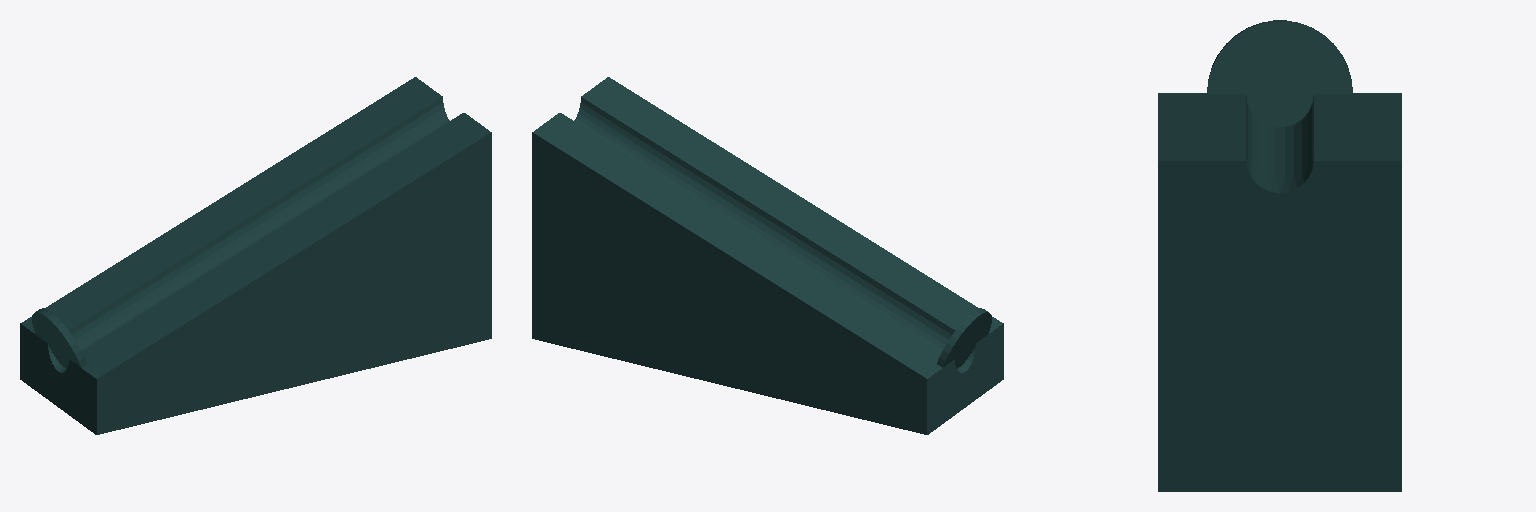
URDF robot description (20deg_launcher):
<?xml version="1.0" ?>
<!-- =================================================================================== -->
<!-- |    This document was autogenerated by xacro from src/exocet_20deg_launcher/urdf/20deg_launcher.xacro | -->
<!-- |    EDITING THIS FILE BY HAND IS NOT RECOMMENDED                                 | -->
<!-- =================================================================================== -->
<robot name="20deg_launcher">
  <material name="grey">
    <color rgba="0.2 0.2 0.2 1.0"/>
  </material>
  <material name="darkgrey">
    <color rgba="0.18359375 0.30859375 0.30859375 1.000"/>
  </material>
  <material name="silver">
    <color rgba="0.700 0.700 0.700 1.000"/>
  </material>
  <material name="white">
    <color rgba="1 1 1 1"/>
  </material>
  <material name="orange">
    <color rgba="1 0.3 0.1 1"/>
  </material>
  <material name="blue">
    <color rgba="0.2 0.2 1 1"/>
  </material>
  <material name="red">
    <color rgba="0.8 0 0 1"/>
  </material>
  <material name="green">
    <color rgba="0.0 1 0.0 1"/>
  </material>
  <material name="black">
    <color rgba="0 0 0 1"/>
  </material>
  <gazebo reference="base_link">
    <material>Gazebo/DarkGray</material>
    <mu1>0.2</mu1>
    <mu2>0.2</mu2>
    <selfCollide>true</selfCollide>
    <gravity>true</gravity>
  </gazebo>
  <link name="base_link">
    <inertial>
      <origin rpy="0 0 0" xyz="0.581064554209247 -2.1485566505985686e-16 1.032824471007952"/>
      <mass value="174217.96585404052"/>
      <inertia ixx="142419.847107" ixy="-0.0" ixz="-83436.377751" iyy="549705.903859" iyz="-0.0" izz="526964.183043"/>
    </inertial>
    <visual>
      <origin rpy="0 0 0" xyz="0 0 0"/>
      <geometry>
        <mesh filename="package://exocet_20deg_launcher/meshes/base_link.stl" scale="0.001 0.001 0.001"/>
      </geometry>
      <material name="darkgrey"/>
    </visual>
    <collision>
      <origin rpy="0 0 0" xyz="0 0 0"/>
      <geometry>
        <mesh filename="package://exocet_20deg_launcher/meshes/base_link.stl" scale="0.001 0.001 0.001"/>
      </geometry>
    </collision>
  </link>
</robot>

--- Render facts (derived) ---
The picture shows the robot from 3 angles, left to right: view 1: azimuth 30°, elevation 25°; view 2: azimuth 150°, elevation 25°; view 3: azimuth 270°, elevation 25°; orthographic projection.
Robot: 20deg_launcher — 1 links, 0 joints (none); root link base_link; default pose: every joint at zero.
Visible links, largest first — view 1: base_link; view 2: base_link; view 3: base_link.
Link boxes in pixels (bbox=[...]): base_link: bbox=[20, 77, 491, 434]; base_link: bbox=[532, 77, 1003, 434]; base_link: bbox=[1158, 20, 1401, 491].
Bounding box of the posed robot: 6.2 × 2 × 3 m (x, y, z).
1 mesh visuals loaded from 1 distinct referenced files (1 binary STL).